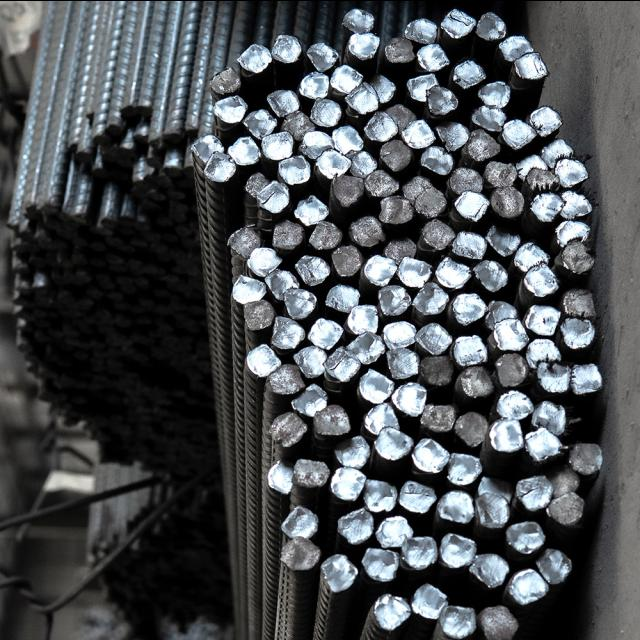Rebar: (474, 601, 518, 640), (413, 585, 449, 627), (450, 290, 485, 332), (361, 547, 399, 585), (279, 504, 318, 541), (523, 433, 566, 466), (267, 414, 311, 446), (536, 551, 574, 588), (487, 222, 526, 258), (468, 554, 509, 588), (440, 603, 477, 640), (401, 534, 437, 572), (335, 509, 377, 541), (278, 538, 320, 570), (509, 568, 544, 606), (475, 494, 513, 529), (450, 233, 488, 268), (506, 523, 547, 555), (312, 404, 354, 435), (324, 554, 360, 590), (454, 411, 490, 447), (527, 335, 563, 371), (464, 128, 500, 164), (350, 330, 386, 366), (380, 138, 416, 174), (272, 312, 306, 350), (532, 102, 564, 142), (537, 359, 573, 394), (308, 314, 344, 349), (548, 493, 586, 526), (375, 514, 413, 547), (355, 372, 393, 405), (530, 406, 574, 434), (363, 479, 397, 515), (329, 467, 365, 501), (525, 261, 561, 295), (497, 354, 531, 390), (438, 255, 472, 291), (379, 191, 415, 225), (487, 422, 524, 455), (512, 243, 549, 276), (421, 219, 458, 252), (399, 484, 437, 516), (570, 363, 608, 395), (524, 302, 562, 334), (451, 334, 489, 366), (325, 281, 363, 313), (292, 195, 330, 227), (447, 454, 487, 484), (373, 430, 413, 460), (390, 386, 430, 416), (330, 171, 365, 205), (459, 366, 496, 398), (291, 385, 329, 416), (562, 316, 600, 347), (245, 346, 283, 377), (481, 300, 520, 330), (229, 135, 263, 169), (569, 444, 605, 476), (377, 592, 409, 628), (414, 438, 450, 470), (256, 181, 292, 213), (226, 226, 262, 258), (281, 109, 317, 141), (419, 404, 457, 434), (498, 391, 536, 421), (419, 354, 457, 384), (529, 190, 563, 223), (243, 299, 276, 333), (304, 220, 340, 251), (362, 112, 398, 143), (334, 437, 371, 467), (361, 403, 398, 433), (516, 478, 548, 512), (440, 536, 472, 570), (561, 242, 595, 274), (497, 318, 531, 350), (308, 40, 340, 74), (284, 286, 320, 316), (407, 75, 443, 105), (294, 257, 331, 286), (312, 150, 350, 178), (501, 117, 534, 149), (384, 318, 417, 350), (362, 255, 395, 287), (295, 343, 328, 375), (334, 122, 366, 155), (346, 86, 380, 117), (328, 246, 363, 276), (214, 92, 249, 122), (230, 275, 266, 304), (364, 170, 401, 198), (296, 454, 328, 486), (350, 304, 382, 336), (300, 132, 332, 164), (267, 88, 300, 119), (475, 13, 505, 47), (560, 190, 594, 220), (330, 346, 360, 380), (279, 155, 313, 185), (331, 63, 365, 93), (245, 109, 279, 139), (190, 135, 224, 165), (272, 34, 307, 63), (272, 218, 304, 249), (205, 150, 236, 182), (560, 154, 590, 187), (454, 191, 487, 221), (270, 364, 303, 394), (438, 123, 471, 153), (402, 120, 435, 150), (476, 477, 514, 503), (517, 54, 551, 83), (415, 189, 449, 218), (425, 87, 461, 114), (258, 133, 295, 159), (266, 462, 297, 493), (443, 492, 475, 522), (418, 42, 450, 72), (485, 159, 517, 189), (414, 284, 444, 316), (352, 214, 384, 244), (244, 249, 276, 279), (309, 99, 341, 129), (210, 63, 242, 93), (543, 139, 577, 167), (416, 325, 450, 353), (384, 350, 418, 378), (402, 18, 438, 44), (557, 220, 593, 246), (446, 168, 485, 192), (400, 258, 430, 289), (454, 59, 487, 87), (492, 185, 525, 213), (385, 236, 418, 264), (265, 272, 298, 300), (501, 34, 535, 61), (440, 11, 474, 38), (348, 30, 382, 57), (563, 292, 598, 318), (525, 169, 559, 195), (421, 149, 455, 175), (479, 80, 514, 105), (388, 102, 419, 130), (242, 174, 273, 202), (480, 261, 507, 293), (239, 49, 275, 73), (296, 72, 330, 97), (385, 37, 415, 65), (368, 75, 398, 103), (349, 150, 379, 178), (473, 102, 505, 128), (399, 175, 433, 199), (551, 470, 579, 499), (517, 153, 545, 179), (342, 10, 375, 32)
